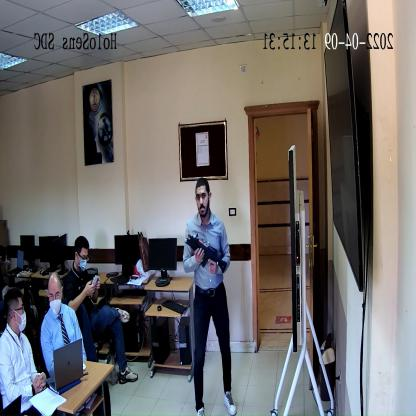handgun: (188, 234, 227, 275)
